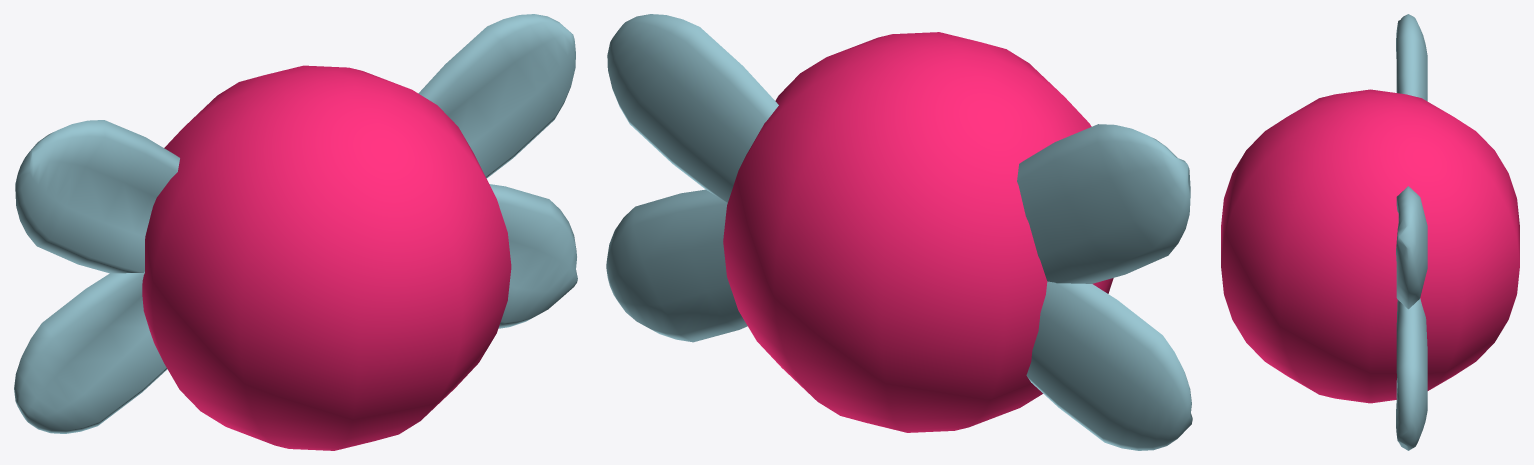
File: Fairy_animated.FBX
The picture shows the model from 3 angles, left to right: view 1: azimuth 30°, elevation 25°; view 2: azimuth 150°, elevation 25°; view 3: azimuth 270°, elevation 25°; orthographic projection. The views are drawn at different scales.
Parts seen in each view (by area): view 1: Sphere; view 2: Sphere; view 3: Sphere.
Boxes of the visible parts, bbox=[...] form: Sphere: bbox=[14, 14, 577, 450]; Sphere: bbox=[606, 14, 1192, 450]; Sphere: bbox=[1221, 14, 1519, 450].
Size of the model in its own units: 83.45 by 49.82 by 47.39.
